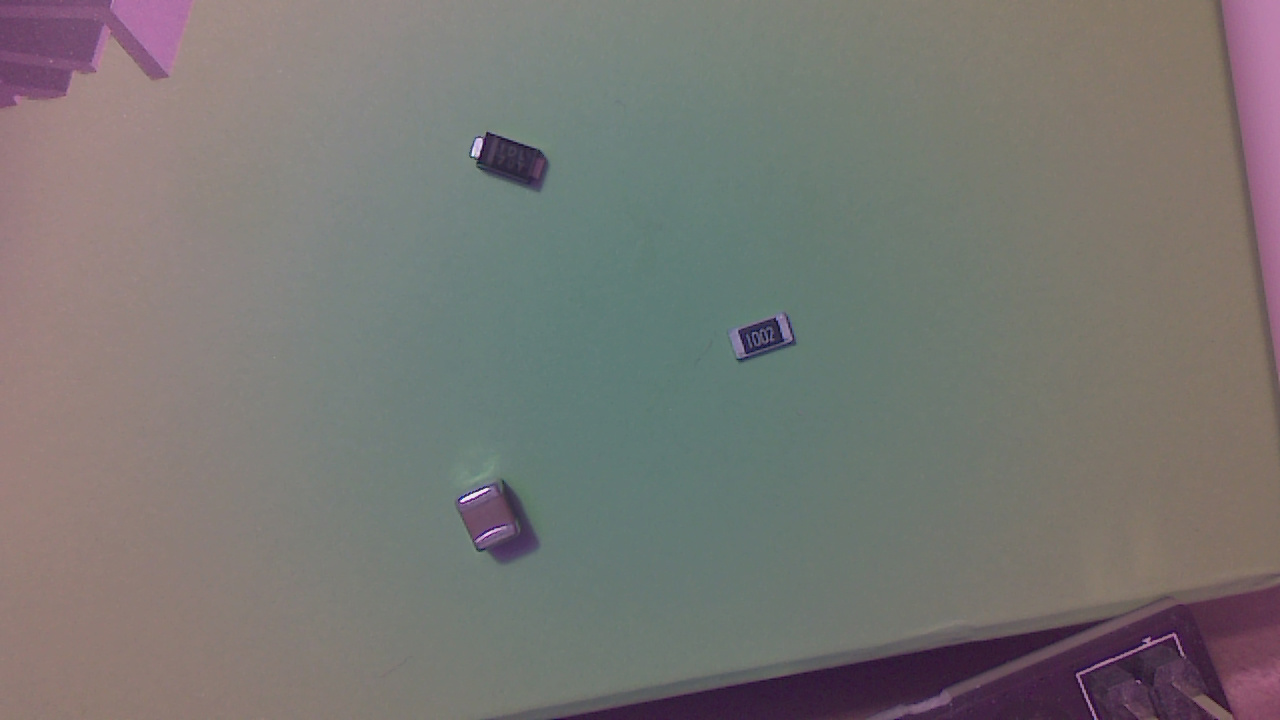Condensator: (457, 488, 529, 555)
Diode: (475, 133, 556, 193)
Resistor: (733, 314, 800, 366)
